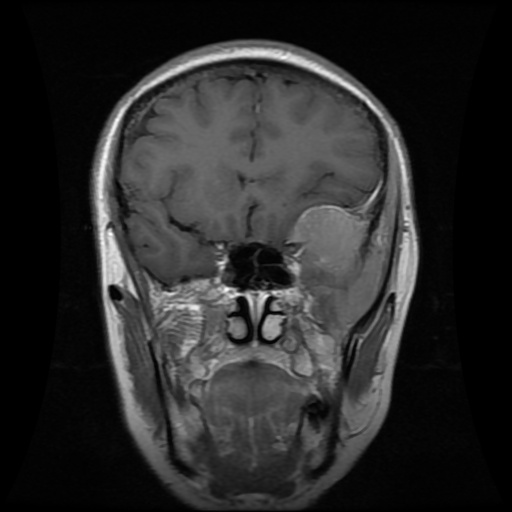meningioma: (290, 204, 368, 273)
